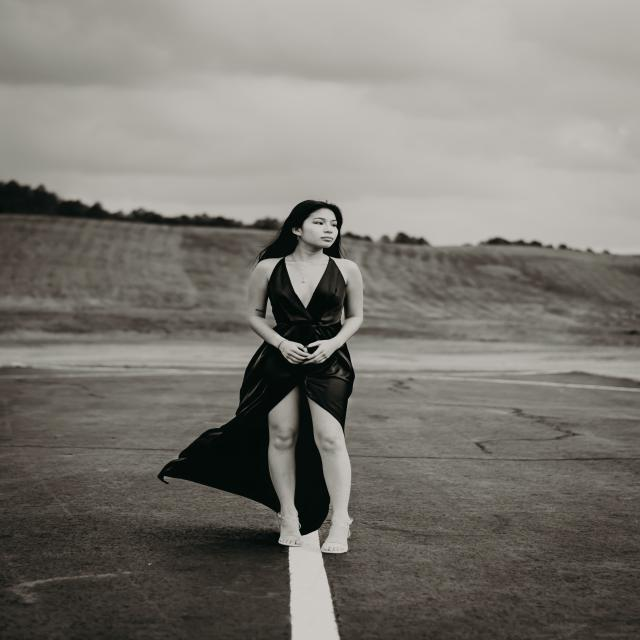standing: (235, 196, 374, 559)
